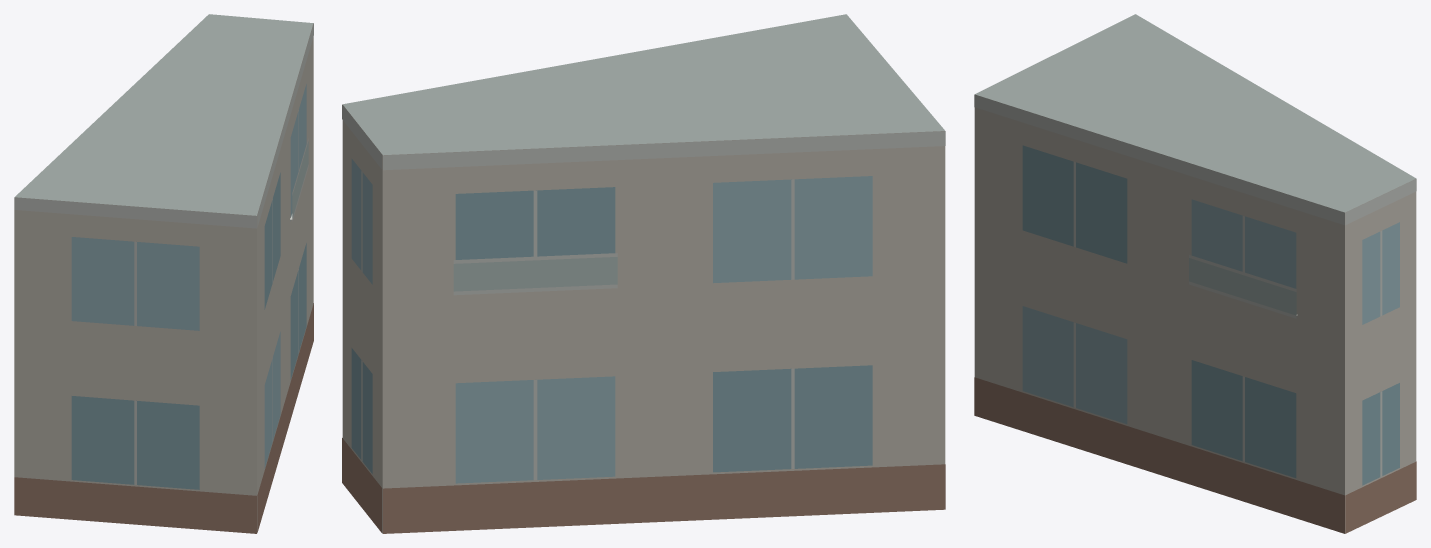
Rendered from survey-upis-33015710.glb.
3 views of the same model, side by side, from view 1: azimuth 30°, elevation 25°; view 2: azimuth 150°, elevation 25°; view 3: azimuth 270°, elevation 25° (orthographic). The views are drawn at different scales.
Visible parts, largest first — view 1: survey-upis-33015710.tmp; view 2: survey-upis-33015710.tmp; view 3: survey-upis-33015710.tmp.
Part boxes in pixels (x1=…): survey-upis-33015710.tmp: x1=14, y1=14, x2=313, y2=533; survey-upis-33015710.tmp: x1=342, y1=14, x2=945, y2=533; survey-upis-33015710.tmp: x1=974, y1=14, x2=1416, y2=533.
Size of the model in its own units: 8.09 by 6.1 by 7.62.
